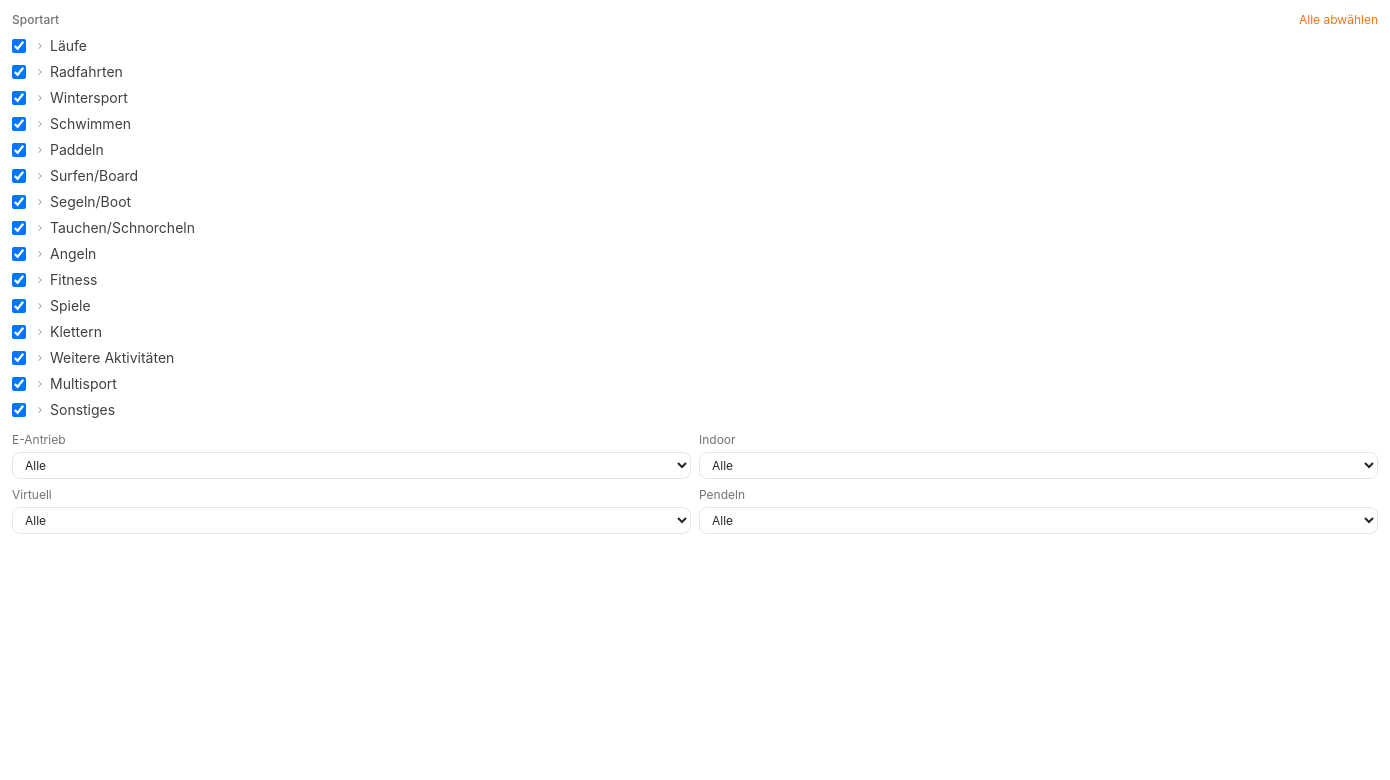
Test case: SportFilter › renders canonical top sport groups without deprecated top-level options
Step 1. Click the button "Radfahrten" → (78, 72), box [34,62,123,82]
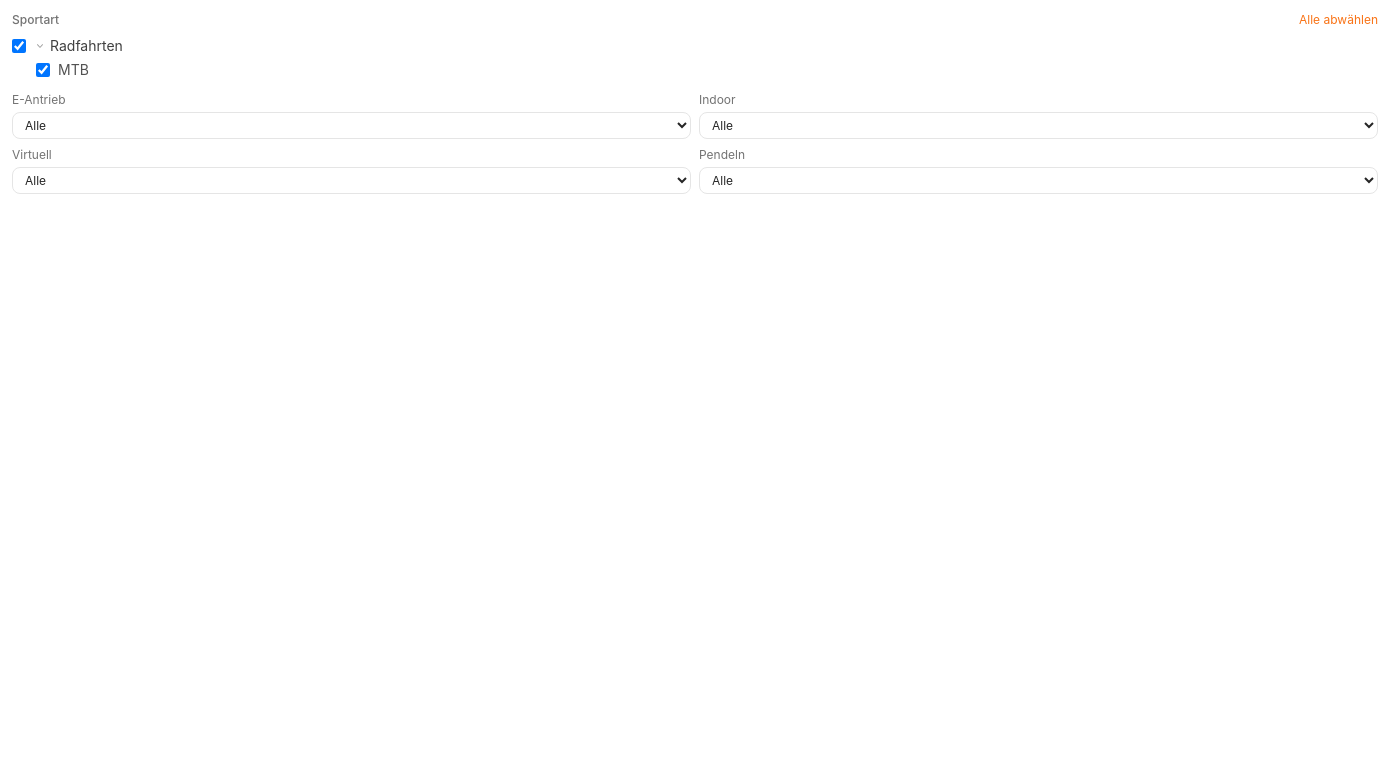
Expected: the text "MTB" is shown, [58,60,89,80]
